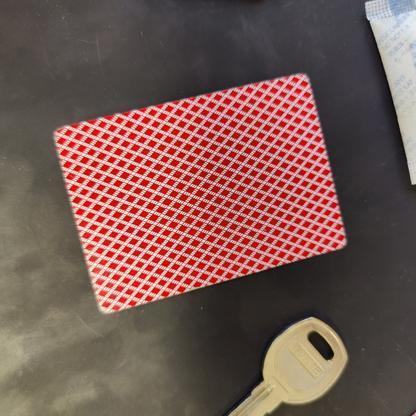card: (38, 62, 366, 323)
